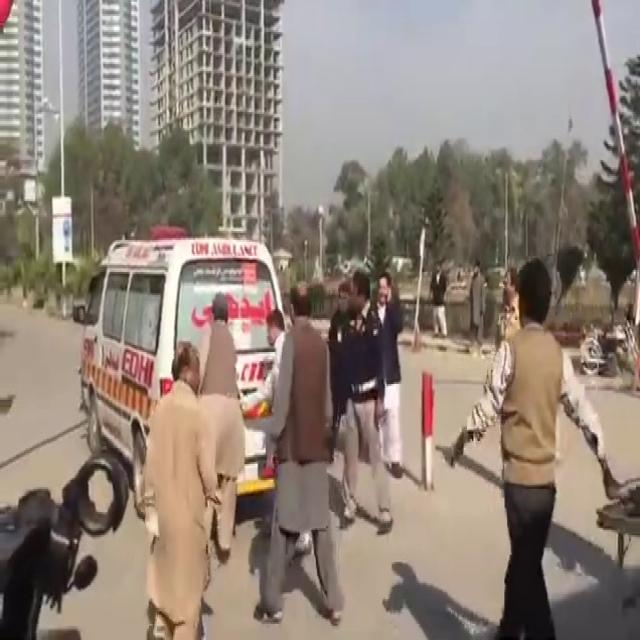ambulance: (64, 230, 304, 505)
